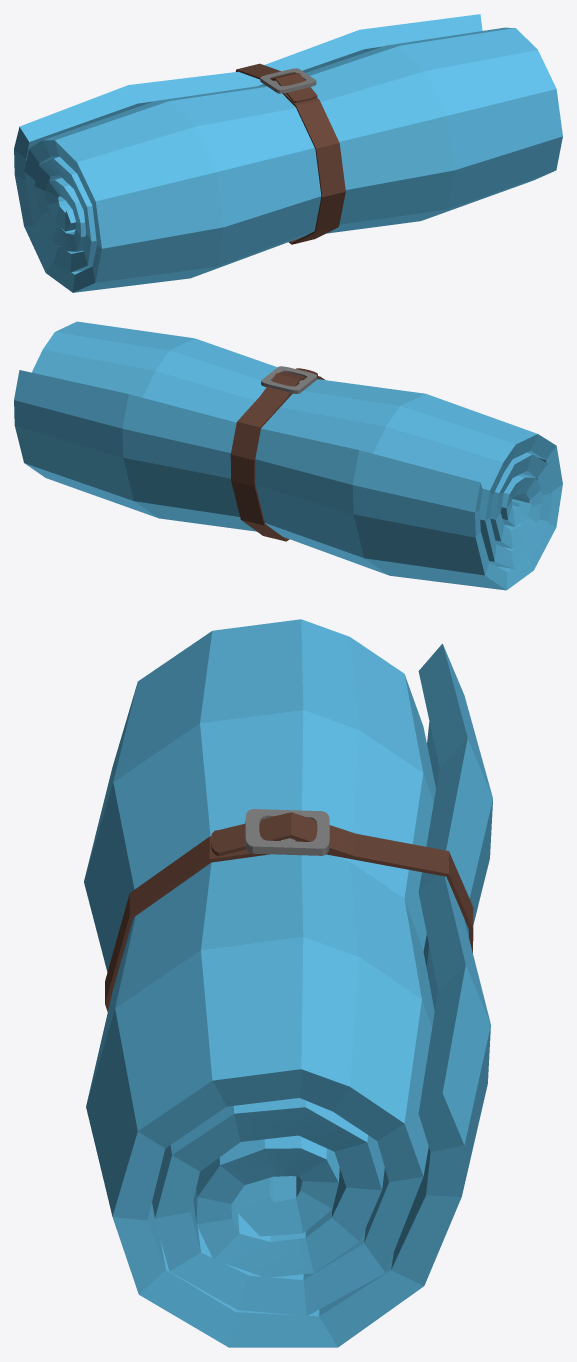
The model's file is Sleeping Bag WClamp.fbx.
3 views of the same model, one above another, from view 1: azimuth 30°, elevation 25°; view 2: azimuth 150°, elevation 25°; view 3: azimuth 270°, elevation 25° (orthographic). The views are drawn at different scales.
Parts seen in each view (by area): view 1: Sleeping Bag Rolled, Sleeping Bag Clamp; view 2: Sleeping Bag Rolled, Sleeping Bag Clamp; view 3: Sleeping Bag Rolled, Sleeping Bag Clamp.
Part boxes in pixels (bbox=[...]): Sleeping Bag Rolled: bbox=[14, 14, 562, 292]; Sleeping Bag Clamp: bbox=[235, 63, 345, 244]; Sleeping Bag Rolled: bbox=[14, 321, 562, 590]; Sleeping Bag Clamp: bbox=[230, 366, 324, 541]; Sleeping Bag Rolled: bbox=[84, 619, 492, 1347]; Sleeping Bag Clamp: bbox=[105, 809, 473, 1011].
Bounding box in the file's own units: 200 × 67.15 × 76.89.
